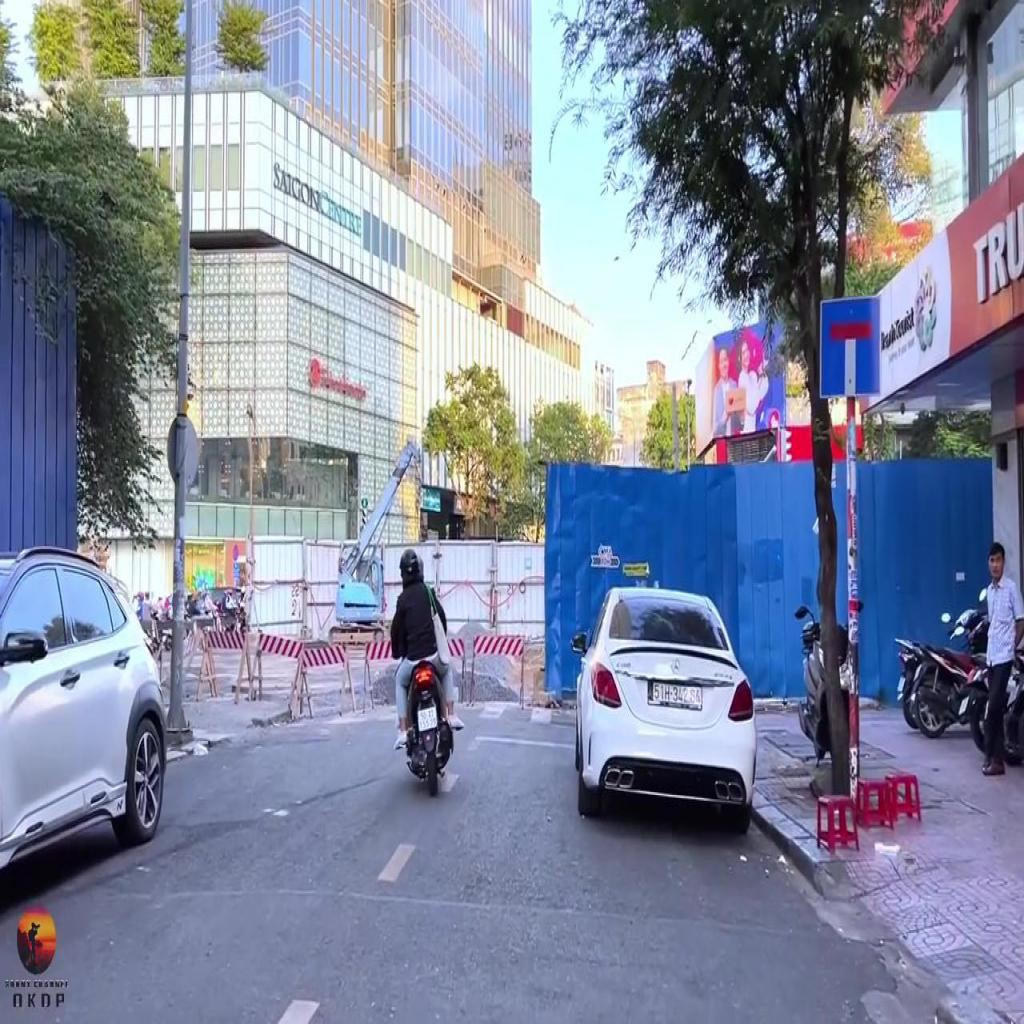khac: (821, 300, 881, 398)
